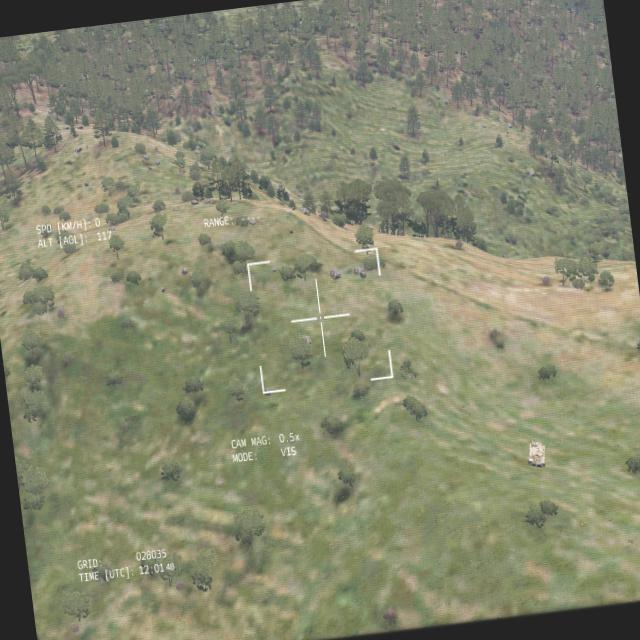tank: (524, 436, 548, 471)
